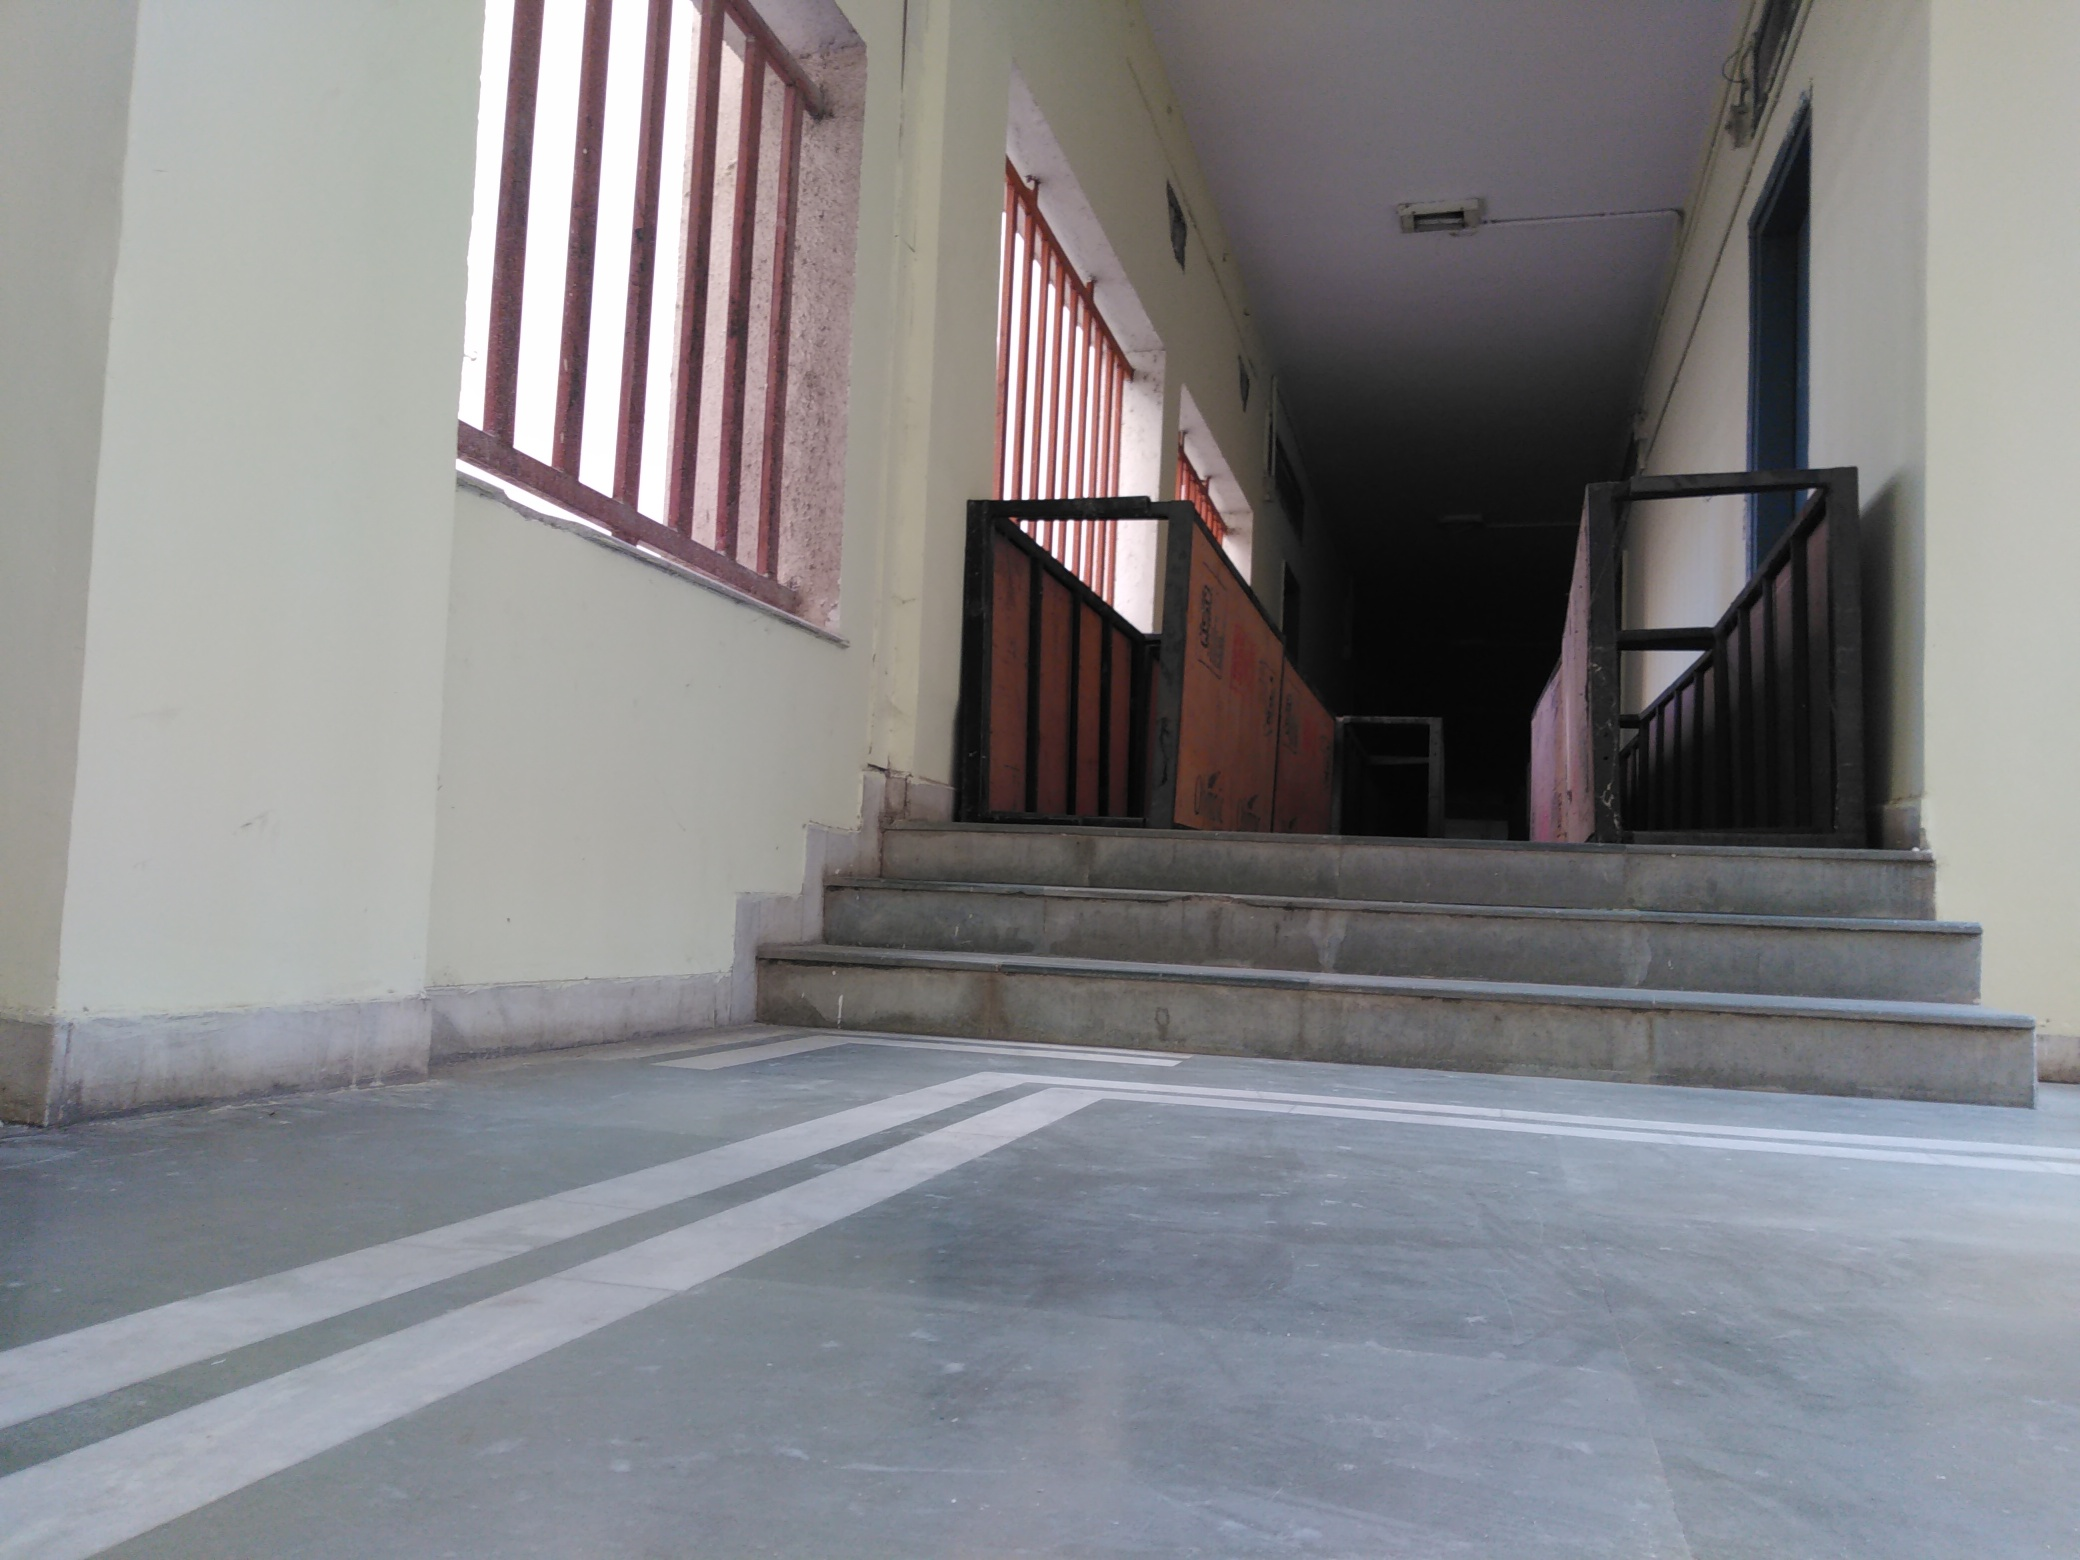stairs_up: (762, 832, 1965, 1031)
